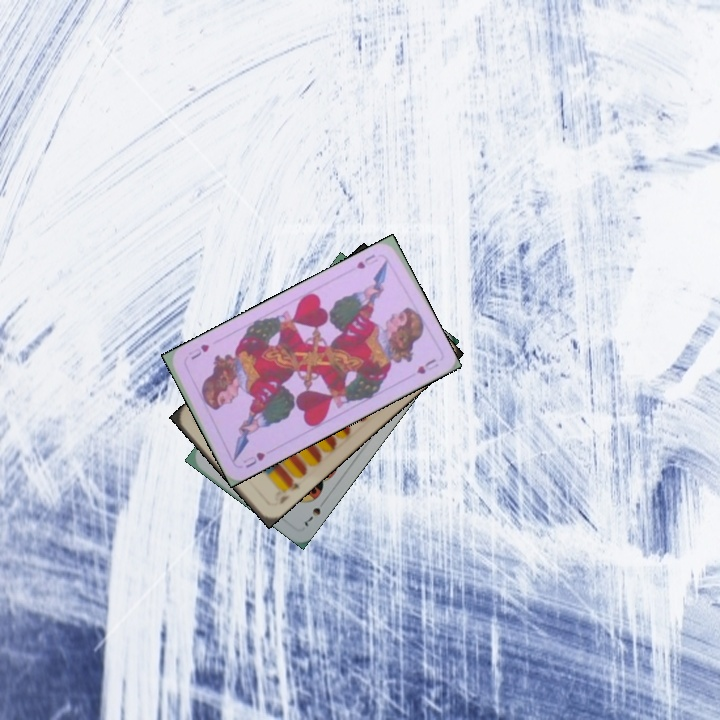E10: (275, 475, 302, 507)
HU: (239, 448, 268, 471), (352, 250, 381, 272)
S7: (299, 503, 323, 529)
